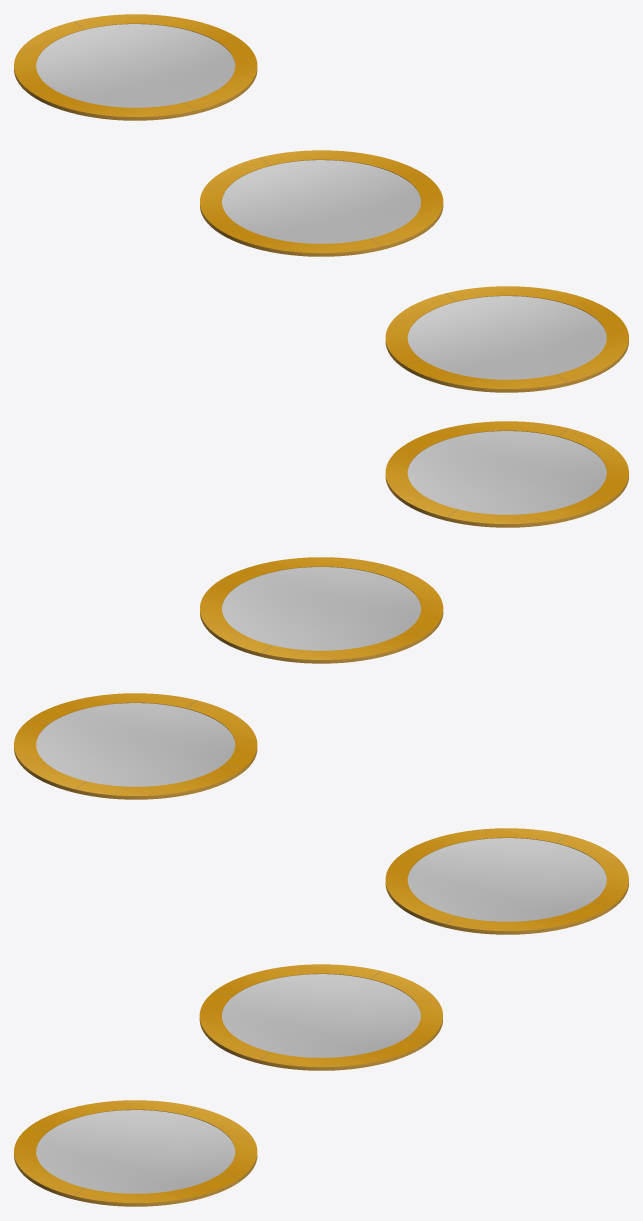
Rendered from Subway05Circle01.FBX.
3 views of the same model, one above another, from view 1: azimuth 30°, elevation 25°; view 2: azimuth 150°, elevation 25°; view 3: azimuth 330°, elevation 25° (orthographic).
Parts seen in each view (by area): view 1: Subway05CircleLight, Subway05Circle01; view 2: Subway05CircleLight, Subway05Circle01; view 3: Subway05CircleLight, Subway05Circle01.
Boxes of the visible parts, <box> form: Subway05CircleLight: <box>36,24,606,379</box>; Subway05Circle01: <box>14,14,628,392</box>; Subway05CircleLight: <box>36,431,606,786</box>; Subway05Circle01: <box>14,421,628,799</box>; Subway05CircleLight: <box>36,838,606,1193</box>; Subway05Circle01: <box>14,828,628,1206</box>.
Size of the model in its own units: 13200 by 600 by 53484.
